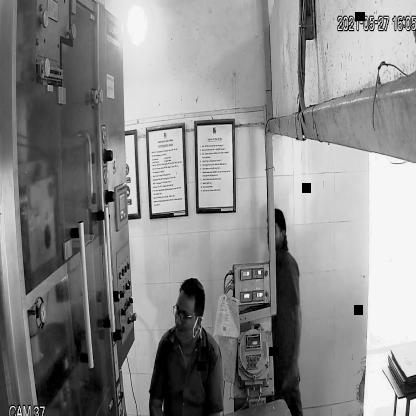goggles: (171, 299, 198, 322)
